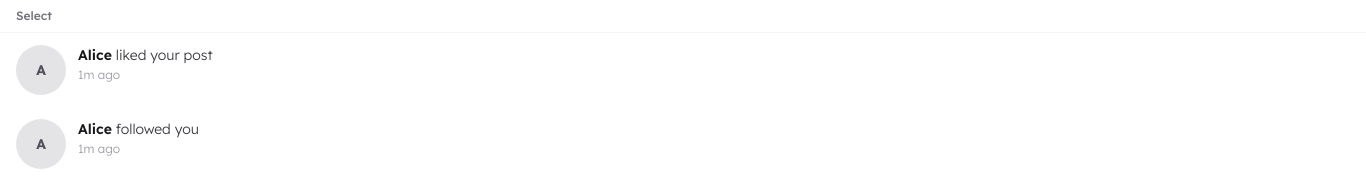
it: NotificationList › select all checks all notifications
The image size is (1366, 186).
Click the button "Select": x=34, y=16 [16,8,52,24]
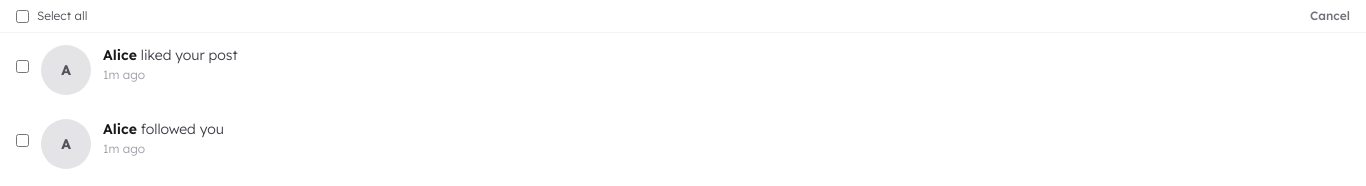
Click the text "Select all": x=62, y=16 [37,8,87,24]
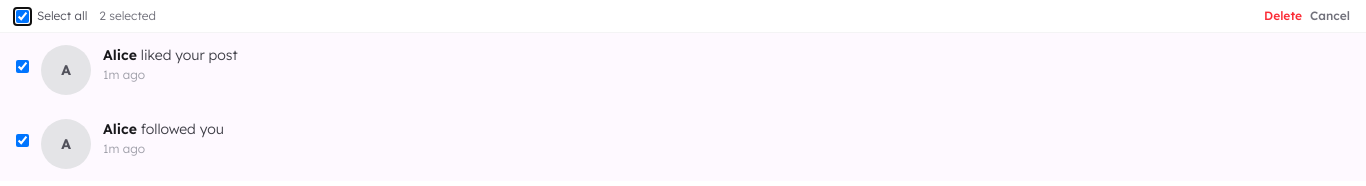
Check: the checkbox in the row of "liked your post" is checked, box [16,60,29,73]
Check: the checkbox in the row of "followed you" is checked, box [16,134,29,147]
Check: the text "2 selected" is shown, box [99,8,156,24]
